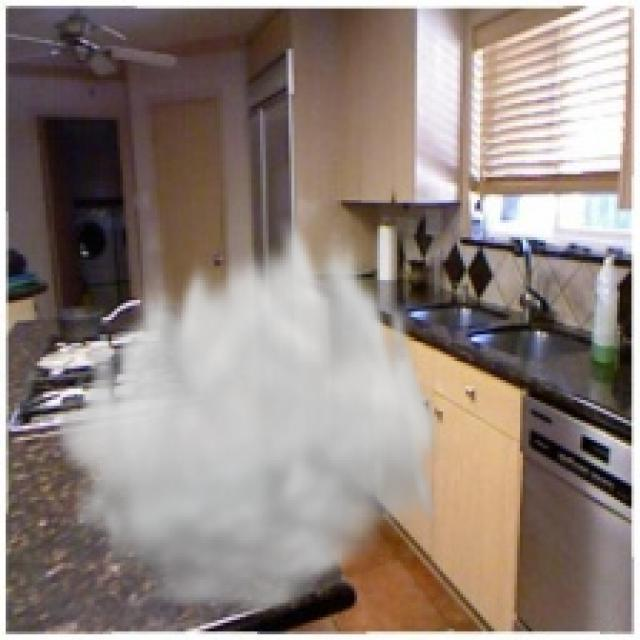Smoke: (48, 206, 443, 623)
